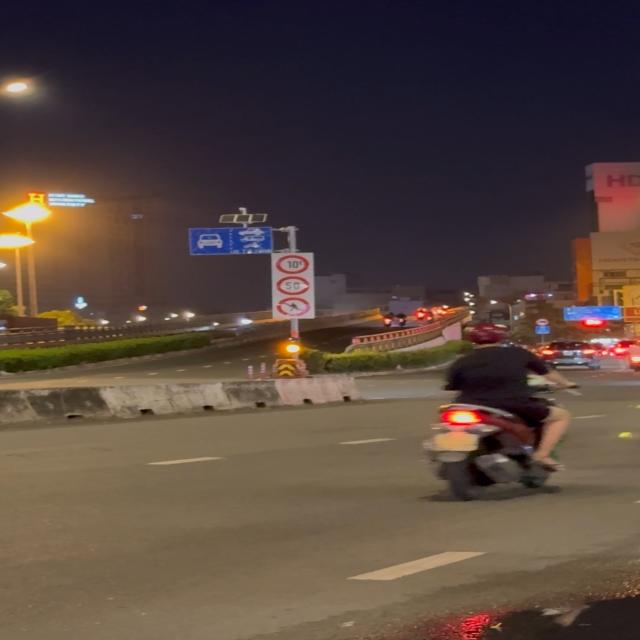Bien bao cam nguoi di bo: (276, 297, 312, 318)
Bien bao toc do toi da cho phep: (276, 276, 313, 296)
